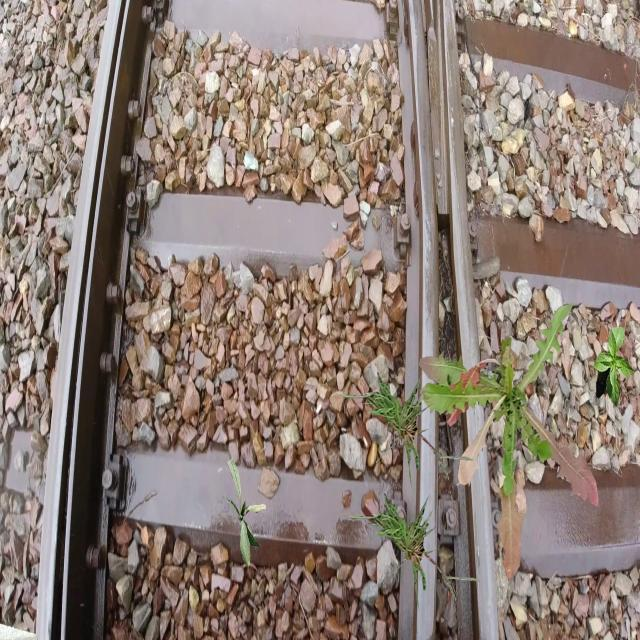Plant: (419, 304, 599, 582), (330, 372, 473, 492), (337, 493, 480, 612), (227, 458, 267, 568), (594, 327, 636, 407)
